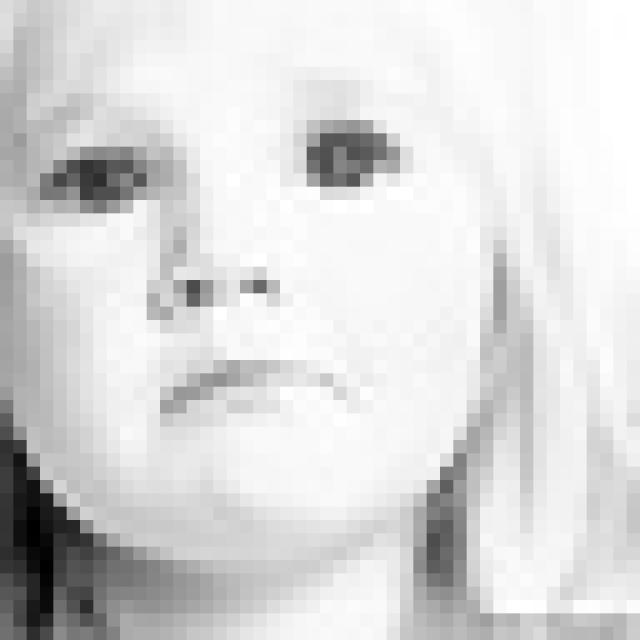sad: (0, 54, 454, 437)
